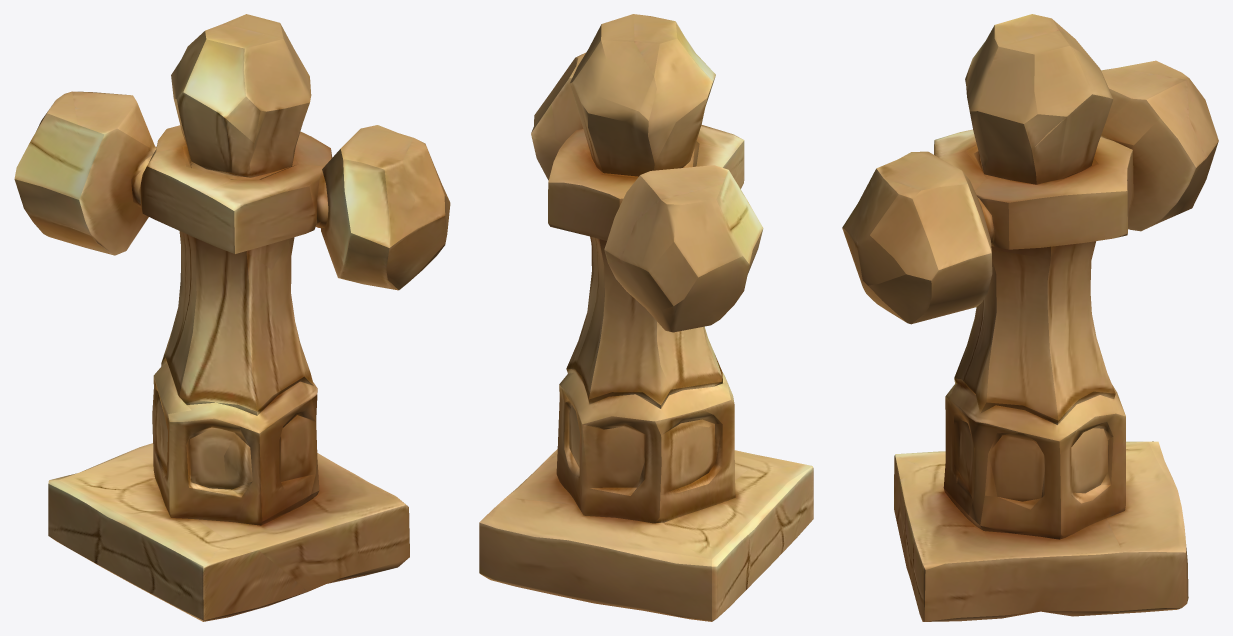
The model's file is m2StrikerPost.glb.
3 renders of one model, left to right at view 1: azimuth 30°, elevation 25°; view 2: azimuth 150°, elevation 25°; view 3: azimuth 270°, elevation 25°, orthographic. The views are drawn at different scales.
Parts seen in each view (by area): view 1: model; view 2: model; view 3: model.
Boxes of the visible parts, box(x1,y1,x2,y2) form: model: box(14, 14, 450, 621); model: box(479, 14, 813, 621); model: box(842, 14, 1218, 621).
Bounding box in the file's own units: 1.23 × 1.9 × 1.2.
Materials: 1 (1 with a texture image).
